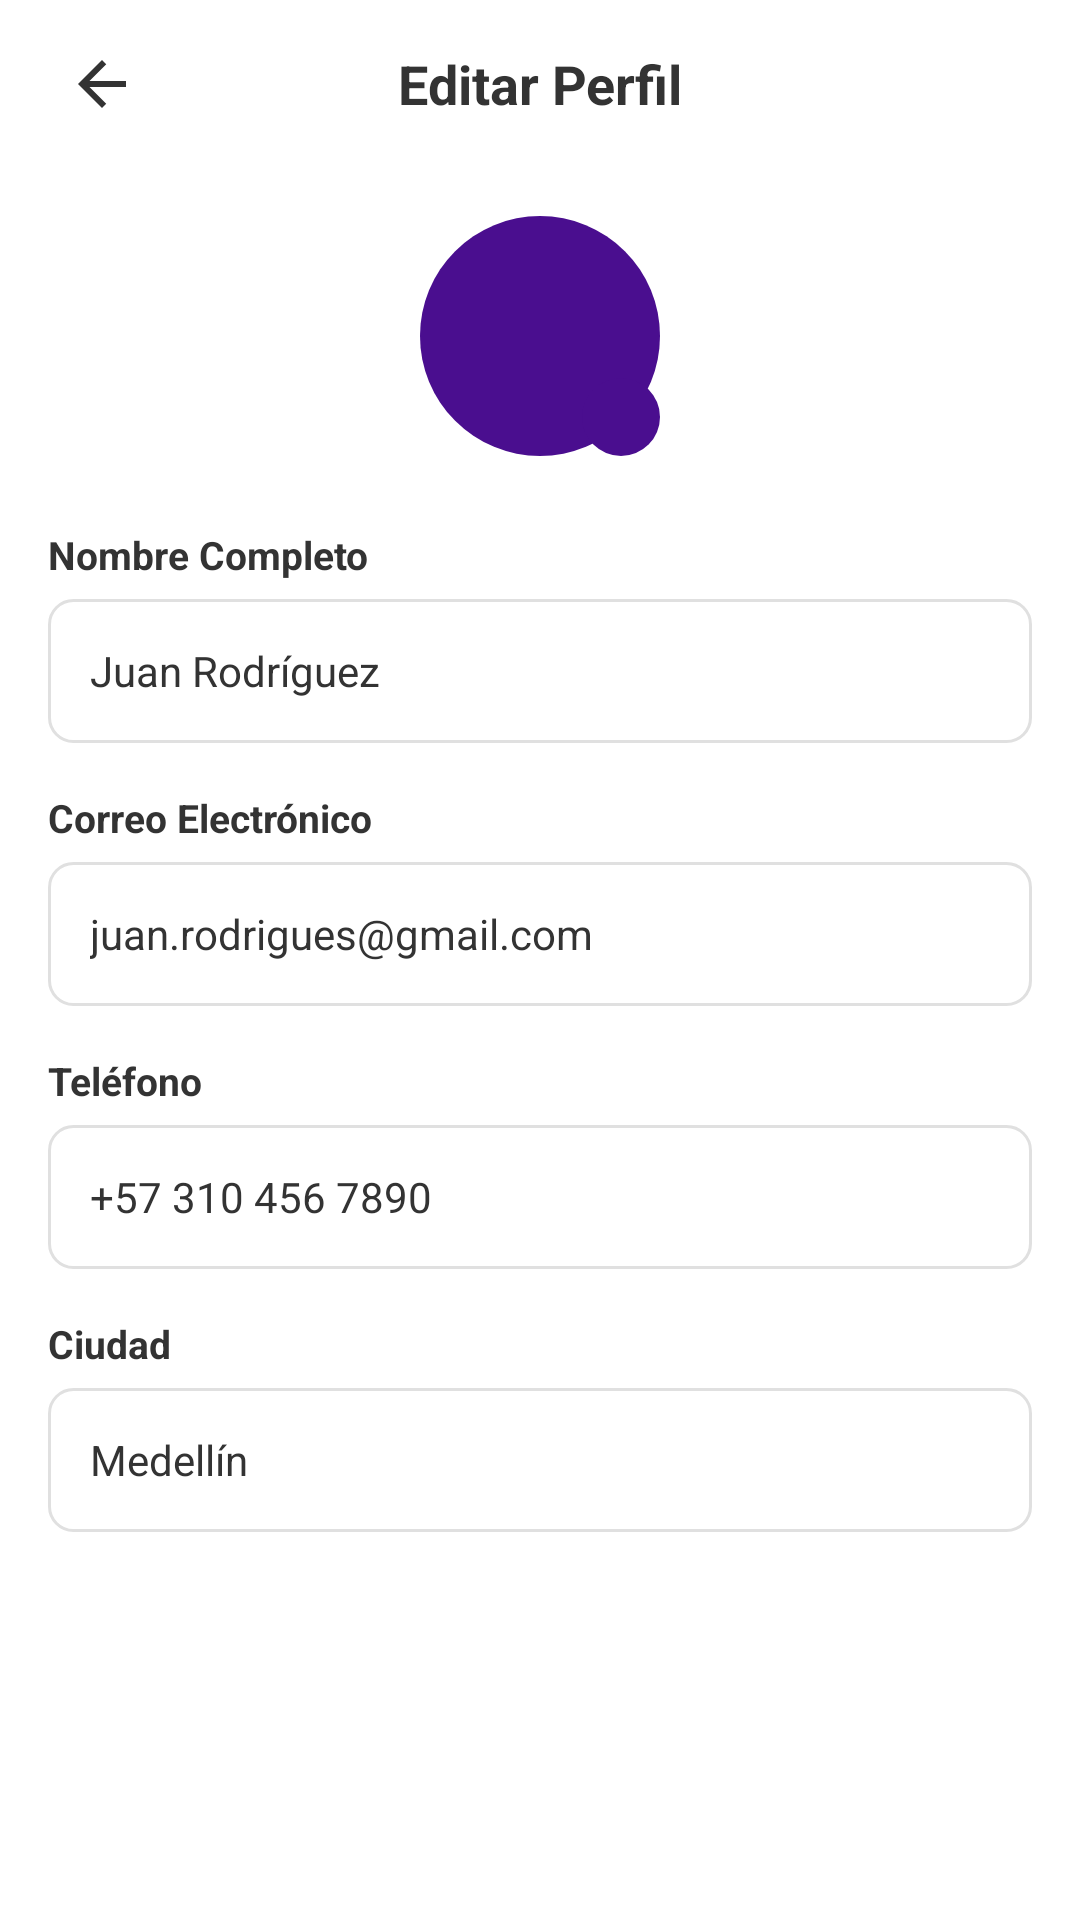

Point at icon controls on the screen. Image size 1080x1920, points as (x=x, y=y).
arrow back: (x=102, y=84)
